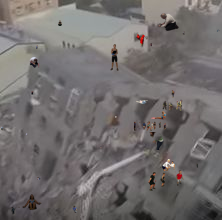Human: (134, 132, 164, 150), (18, 194, 42, 214), (158, 13, 179, 31), (176, 169, 198, 186), (148, 172, 166, 191), (134, 121, 167, 131), (162, 99, 183, 111), (110, 44, 119, 71), (136, 34, 148, 49), (162, 159, 175, 171), (150, 111, 167, 120), (29, 57, 40, 69), (136, 97, 150, 106), (72, 205, 77, 213), (11, 207, 15, 215), (171, 90, 175, 98), (58, 20, 62, 26), (182, 31, 185, 36), (149, 43, 152, 47), (31, 91, 34, 95), (37, 177, 41, 180), (36, 45, 38, 50), (115, 116, 117, 121), (1, 126, 3, 131), (39, 119, 41, 124), (196, 163, 198, 168), (217, 29, 220, 32), (99, 146, 102, 149), (25, 133, 28, 136)
